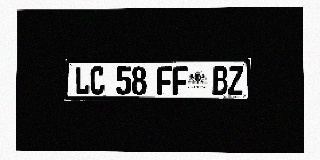5: (116, 67, 131, 95)
8: (132, 66, 146, 95)
B: (212, 66, 228, 95)
C: (90, 67, 105, 95)
F: (157, 66, 172, 95), (173, 66, 188, 95)
L: (75, 67, 90, 95)
Z: (228, 66, 244, 95)
